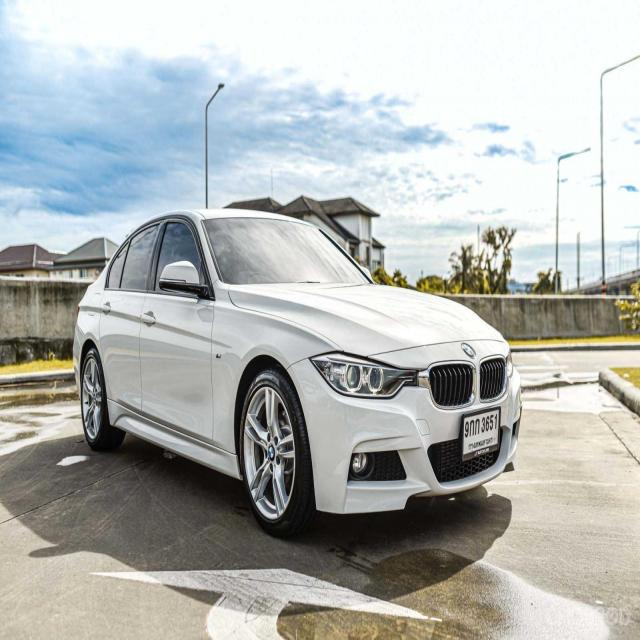license_plate: (458, 404, 504, 463)
